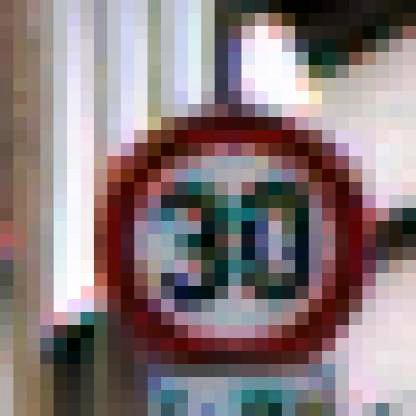Speed Limit -30-: (82, 110, 372, 375)
